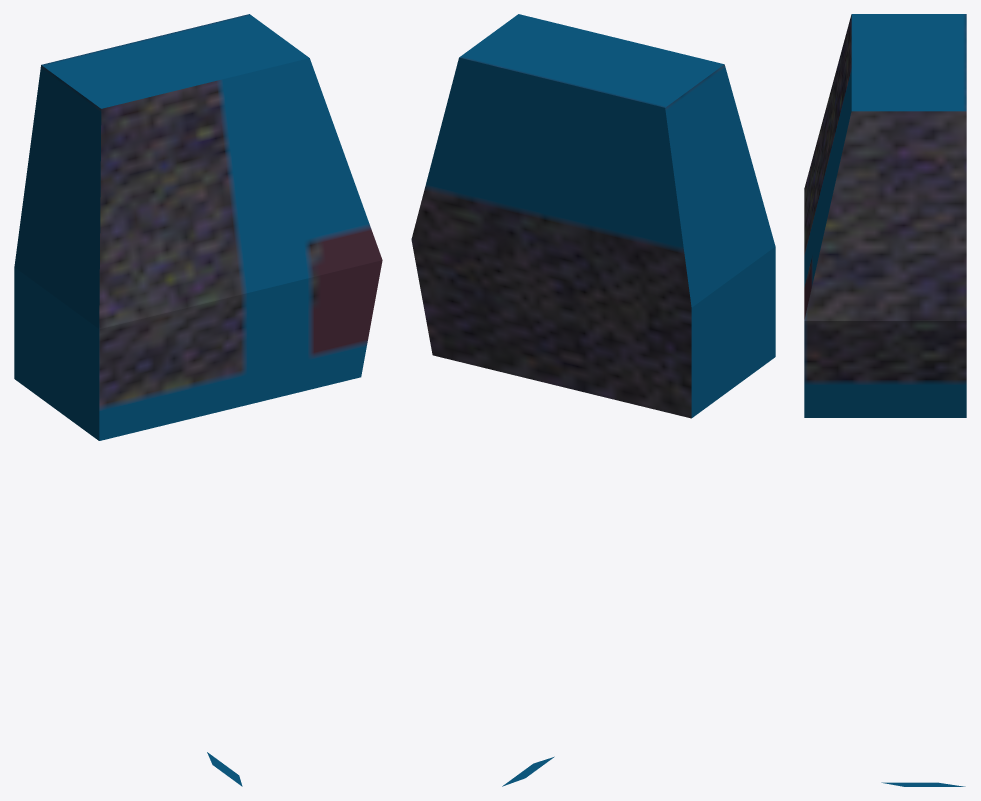
The model's file is guy_LegTop.obj.
The picture shows the model from 3 angles, left to right: view 1: azimuth 30°, elevation 25°; view 2: azimuth 150°, elevation 25°; view 3: azimuth 270°, elevation 25°; orthographic projection. The views are drawn at different scales.
Visible parts, largest first — view 1: leg_top; view 2: leg_top; view 3: leg_top.
Part boxes in pixels (x1,y1,x2,y2): leg_top: [14, 14, 382, 786]; leg_top: [411, 14, 775, 786]; leg_top: [804, 14, 966, 786].
Bounding box in the file's own units: 0.3312 × 0.8125 × 0.1719.
Materials: 1 (1 with a texture image).
